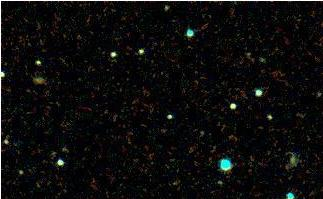star: (26, 42, 56, 72)
